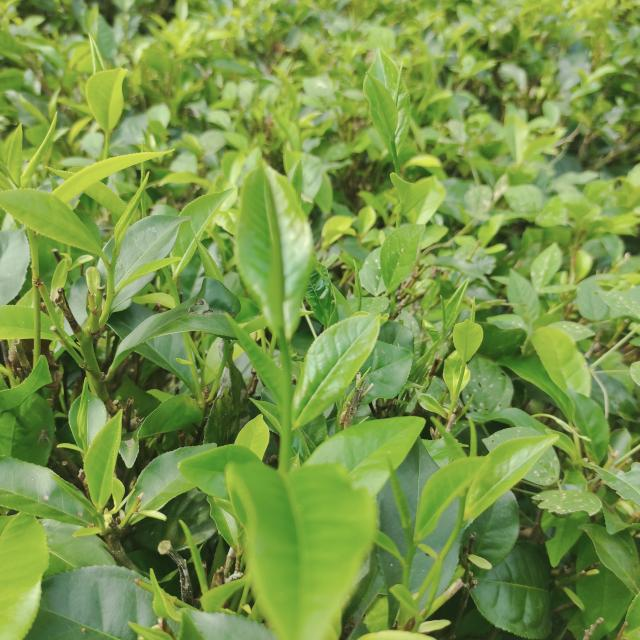unopened_leaf: (256, 170, 298, 335), (378, 446, 418, 536), (110, 167, 156, 245), (18, 111, 62, 185), (176, 514, 217, 592), (74, 373, 97, 448), (134, 134, 150, 220), (349, 253, 370, 314), (462, 412, 483, 461), (391, 57, 406, 105), (438, 292, 452, 338), (467, 294, 483, 326), (394, 199, 408, 231)
